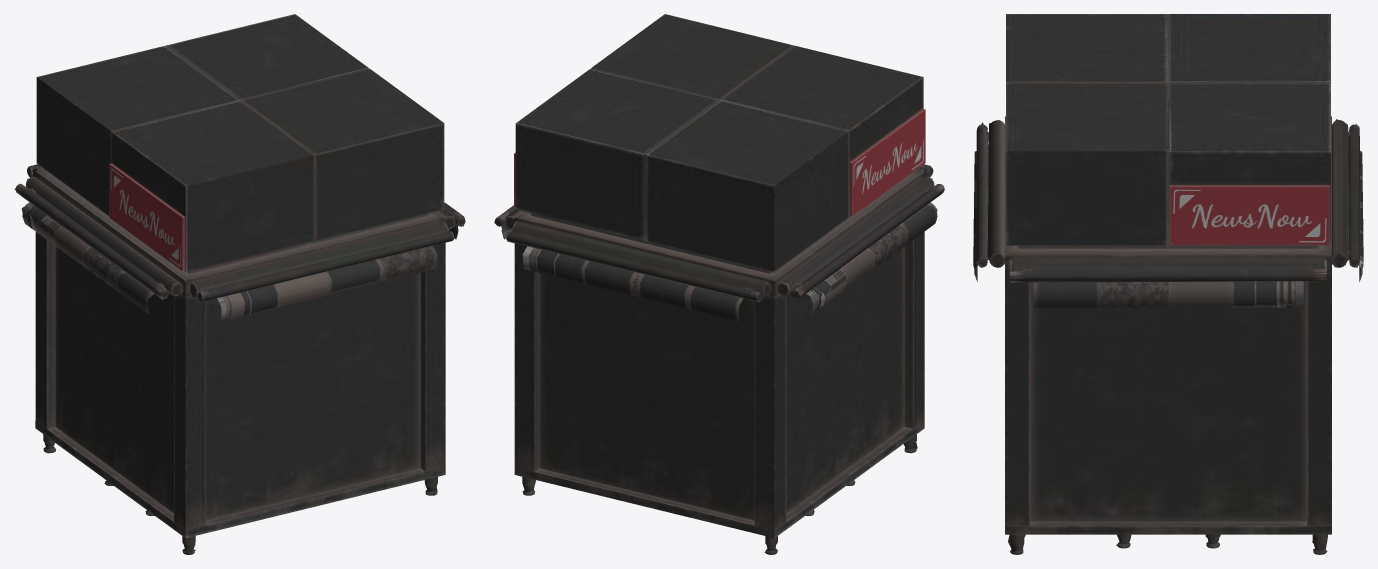
The model's file is street-newsstand.glb.
The picture shows the model from 3 angles, left to right: view 1: azimuth 30°, elevation 25°; view 2: azimuth 150°, elevation 25°; view 3: azimuth 270°, elevation 25°; orthographic projection. The views are drawn at different scales.
Visible parts, largest first — view 1: SM_NewsStand_A_LOD0; view 2: SM_NewsStand_A_LOD0; view 3: SM_NewsStand_A_LOD0.
Part boxes in pixels (<box>): SM_NewsStand_A_LOD0: <box>14,14,465,554</box>; SM_NewsStand_A_LOD0: <box>494,14,944,554</box>; SM_NewsStand_A_LOD0: <box>973,14,1363,554</box>.
Size of the model in its own units: 2.29 by 2.6 by 2.27.
1 material, 1 textured.
